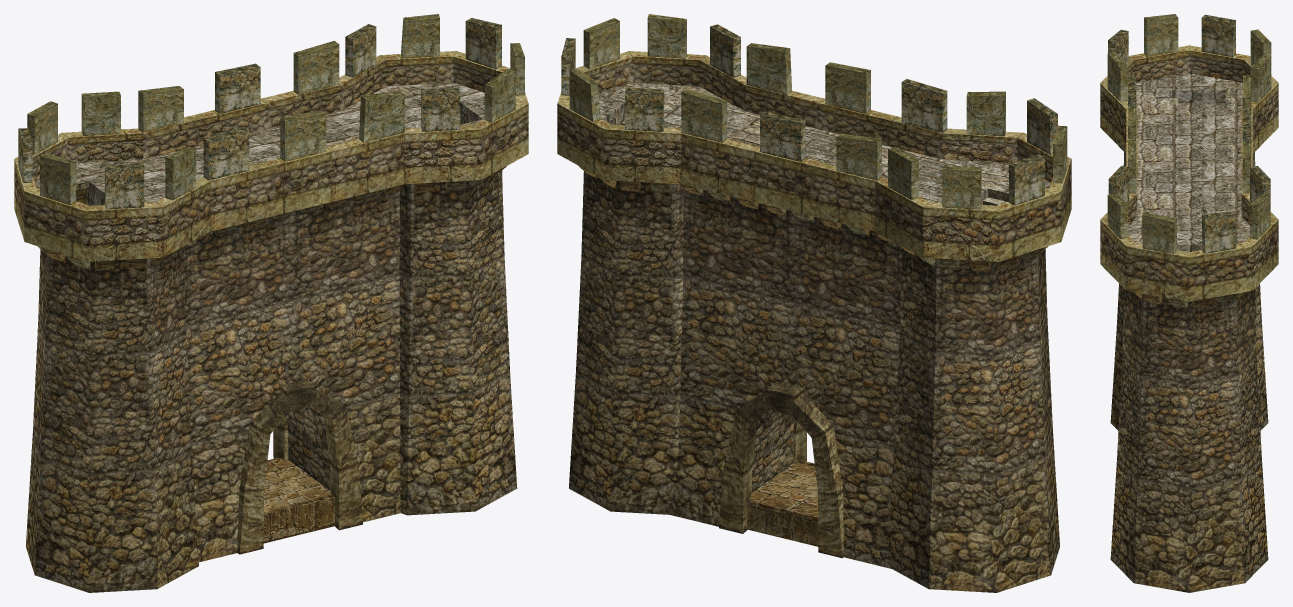
Rendered from hrz17.glb.
3 renders of one model, left to right at view 1: azimuth 30°, elevation 25°; view 2: azimuth 150°, elevation 25°; view 3: azimuth 270°, elevation 25°, orthographic. The views are drawn at different scales.
Parts seen in each view (by area): view 1: hrz17; view 2: hrz17; view 3: hrz17.
Part boxes in pixels (x1,y1,x2,y2): hrz17: [14, 14, 528, 592]; hrz17: [557, 14, 1071, 592]; hrz17: [1100, 14, 1278, 592].
Size of the model in its own units: 17.85 by 14.83 by 6.35.
18 materials, 18 textured.
